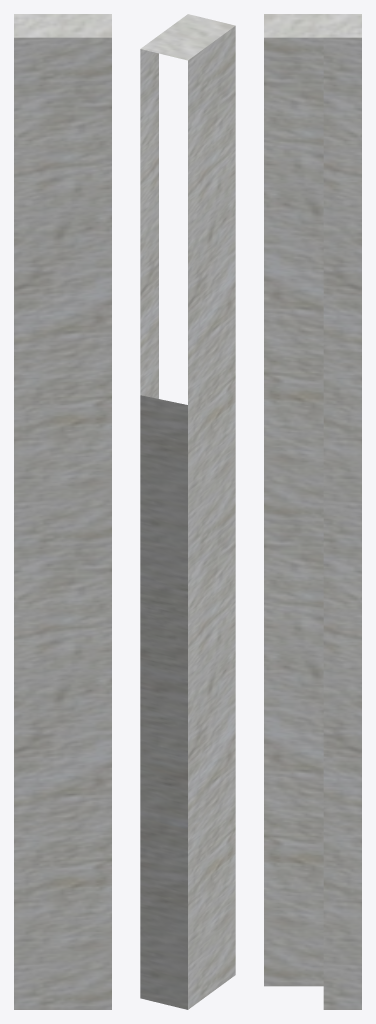
Rendered from wall_18.obj.
The picture shows the model from 3 angles, left to right: view 1: azimuth 90°, elevation 25°; view 2: azimuth 150°, elevation 25°; view 3: azimuth 270°, elevation 25°; orthographic projection. The views are drawn at different scales.
Parts seen in each view (by area): view 1: Cube.005; view 2: Cube.005; view 3: Cube.005.
Part boxes in pixels (box(x1,y1,x2,y2)): Cube.005: box(14, 14, 111, 1009); Cube.005: box(140, 14, 235, 1009); Cube.005: box(264, 14, 361, 1009).
Size of the model in its own units: 0.2693 by 5.13 by 0.4673.
Materials: 1 (1 with a texture image).
